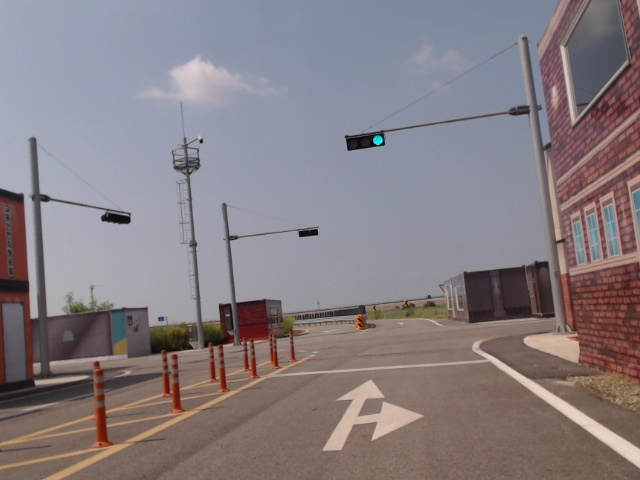green_3: (346, 133, 385, 151)
